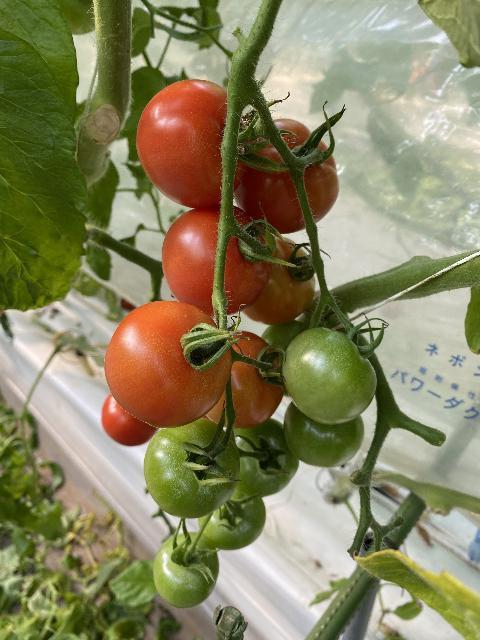l_fully_ripened: (104, 300, 232, 429), (136, 79, 249, 208), (161, 204, 272, 317), (233, 119, 339, 234), (102, 392, 157, 447)
l_green: (144, 418, 241, 519), (282, 327, 377, 424), (229, 417, 299, 497), (283, 399, 364, 468), (153, 530, 220, 608), (198, 484, 266, 549)
l_half_ripened: (206, 330, 284, 429), (242, 235, 315, 325)
